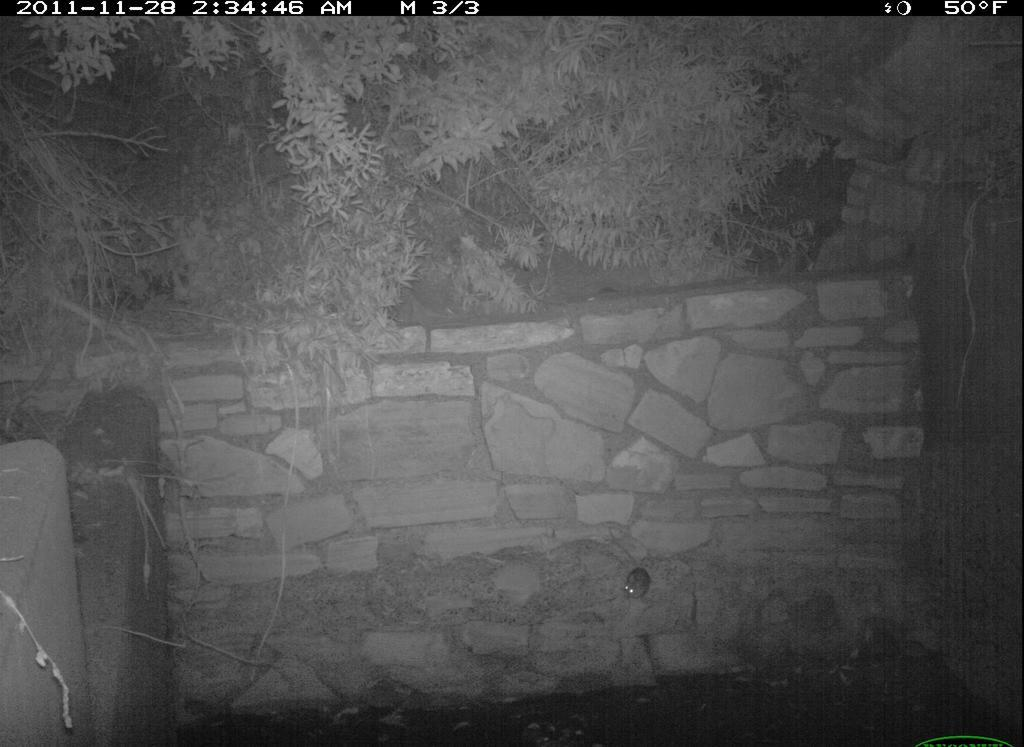rodent: (618, 563, 657, 603)
